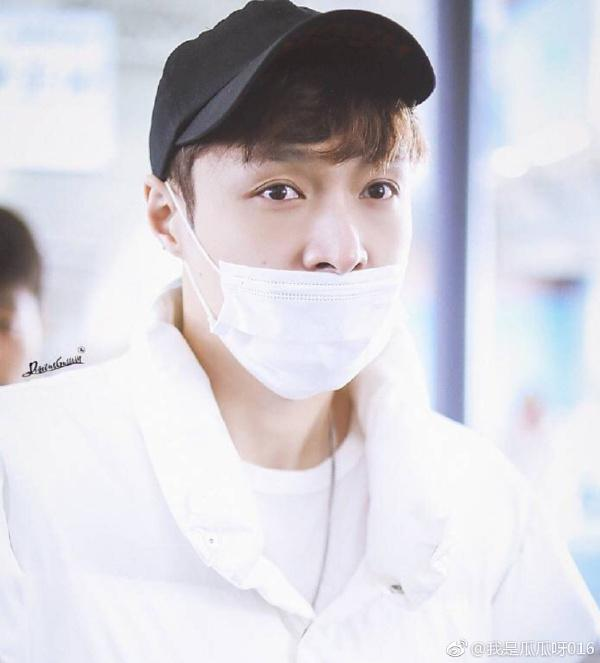WRONG: (196, 128, 410, 399)
